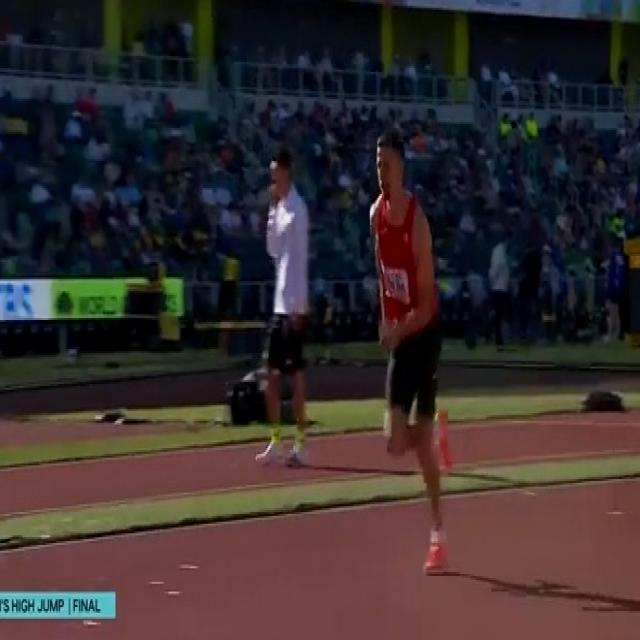run: (367, 126, 455, 581)
